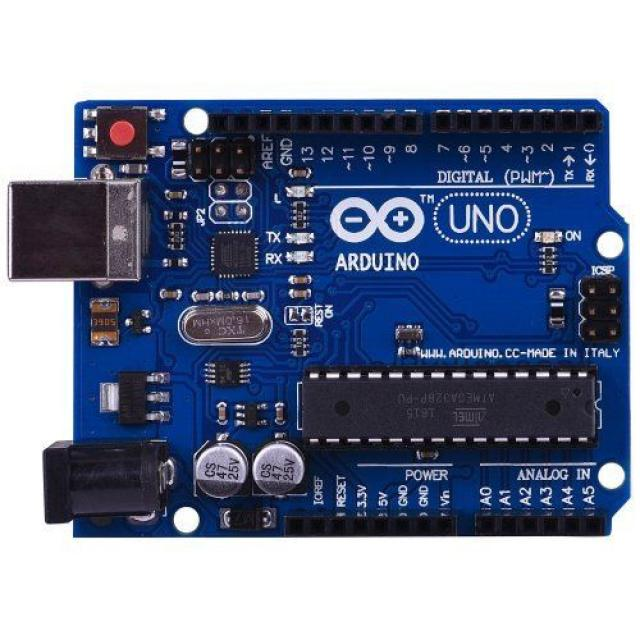Arduino: (0, 85, 640, 562)
